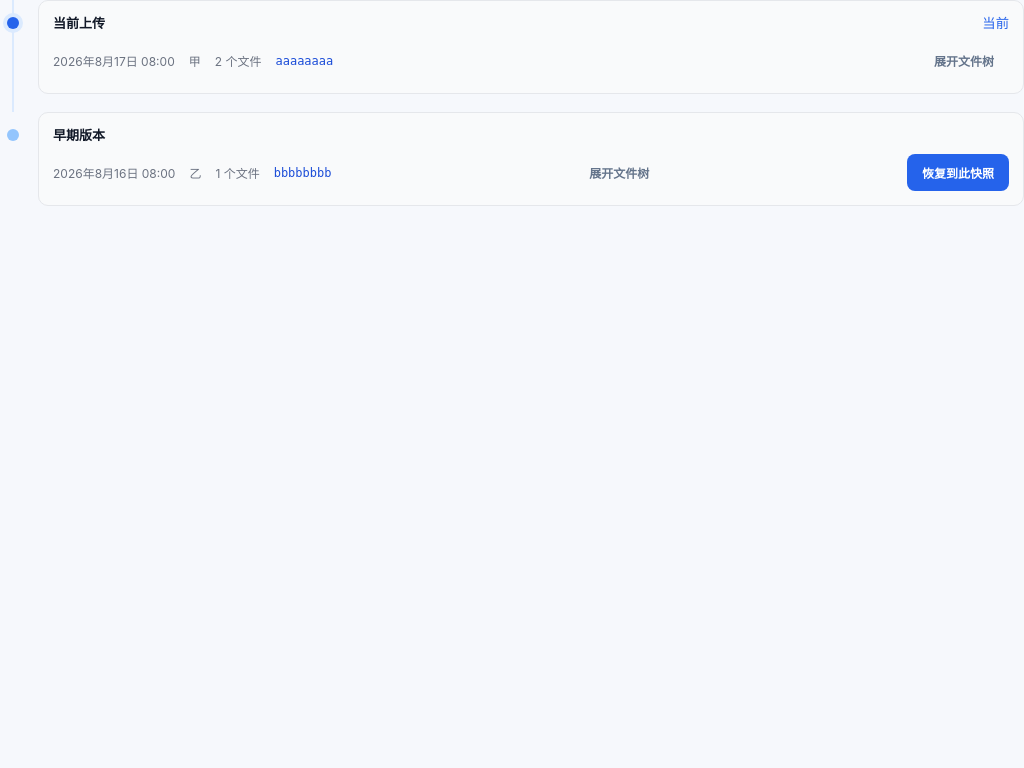
it: SnapshotTimeline › 取消确认不请求恢复并原样展示 403 detail
Expected: the text "早期版本" is shown, [53,125,105,144]
Click the button "恢复到此快照" at (958, 172), box [907,154,1009,191]
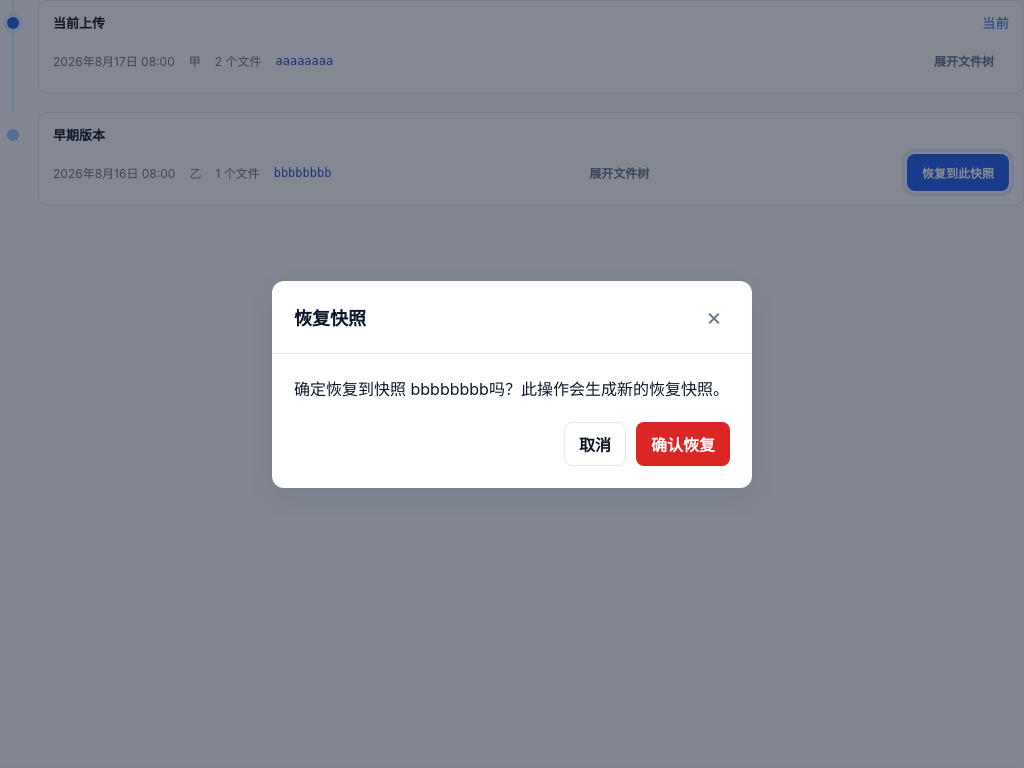
Click the button "取消" at (595, 444), box [564,422,626,466]
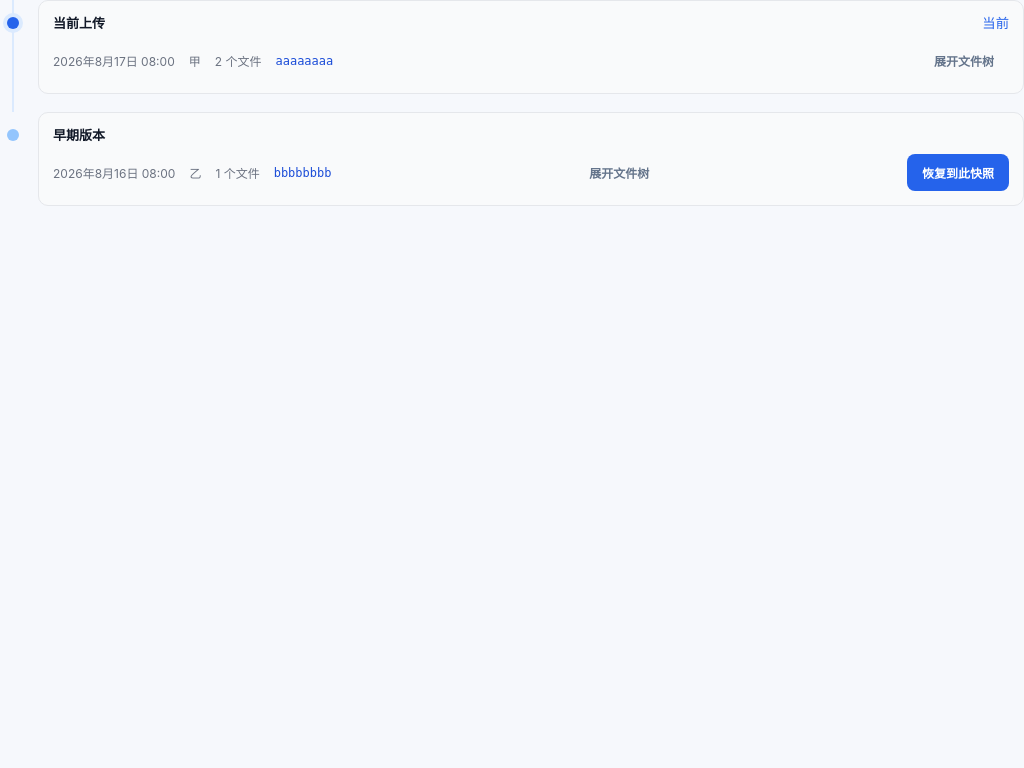
Click the button "恢复到此快照" at (958, 172), box [907,154,1009,191]
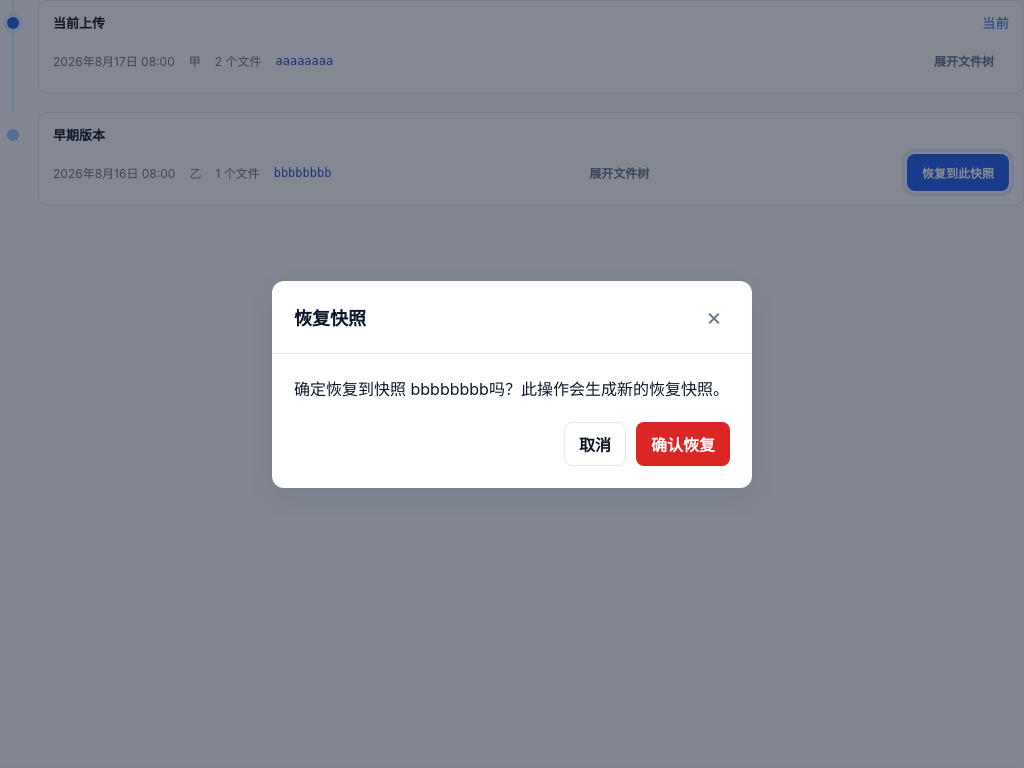
Click the button "确认恢复" at (683, 444), box [636,422,730,466]
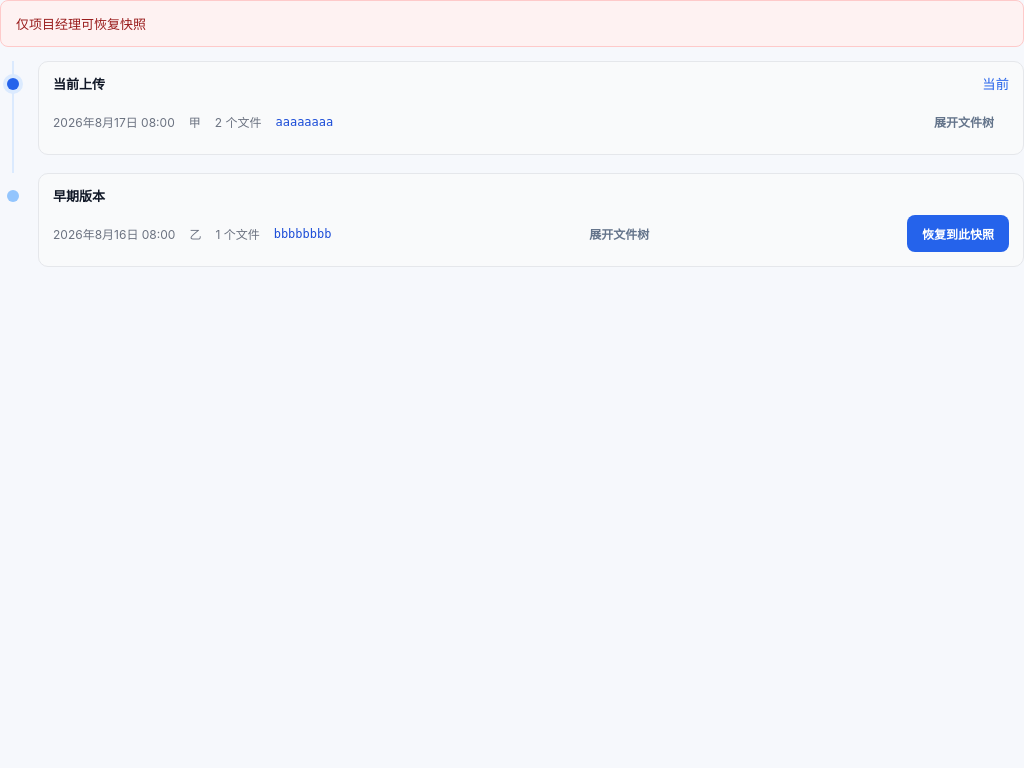
Expected: the text "仅项目经理可恢复快照" is shown, [16,14,146,33]
